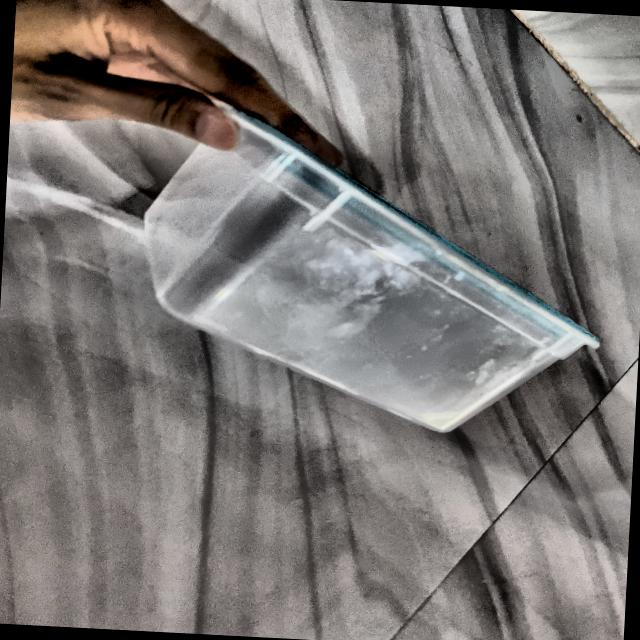plastic container: (93, 106, 616, 447)
